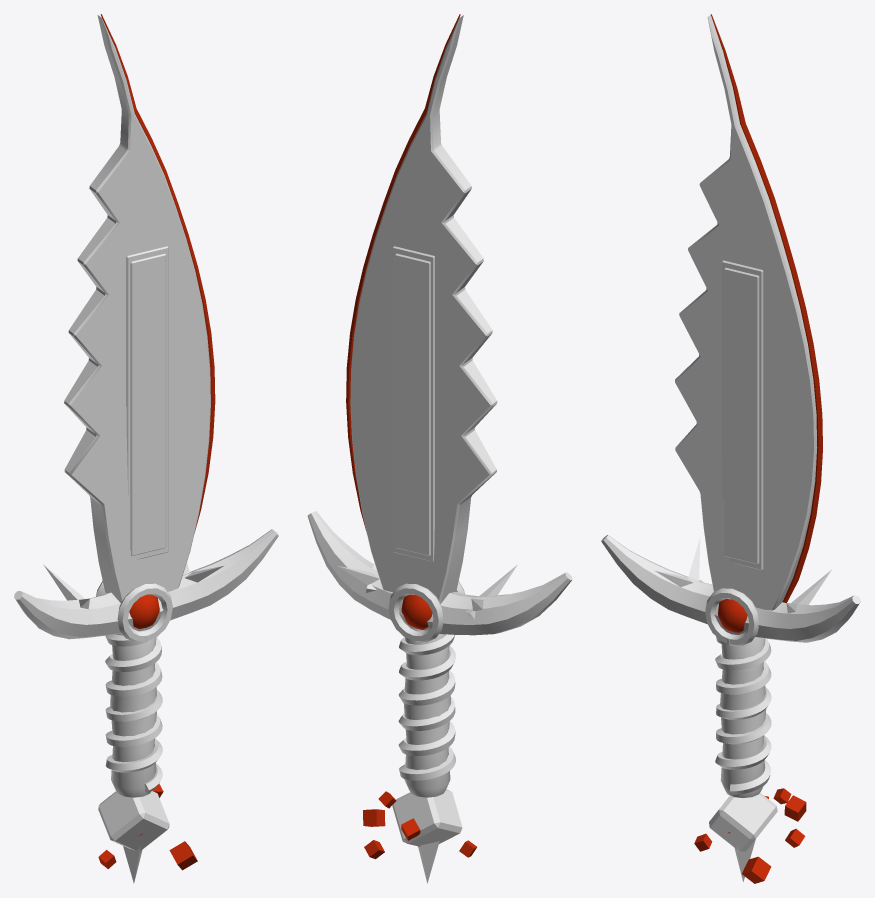
Rendered from daggers2_Blade.fbx.
3 renders of one model, left to right at view 1: azimuth 30°, elevation 25°; view 2: azimuth 150°, elevation 25°; view 3: azimuth 330°, elevation 25°, orthographic.
Parts seen in each view (by area): view 1: K2Blade; view 2: K2Blade; view 3: K2Blade.
Boxes of the visible parts, x1,y1,x2,y2 form: K2Blade: [14, 14, 278, 883]; K2Blade: [307, 14, 572, 883]; K2Blade: [601, 14, 860, 883].
Size of the model in its own units: 0.819 by 2.61 by 0.2651.
